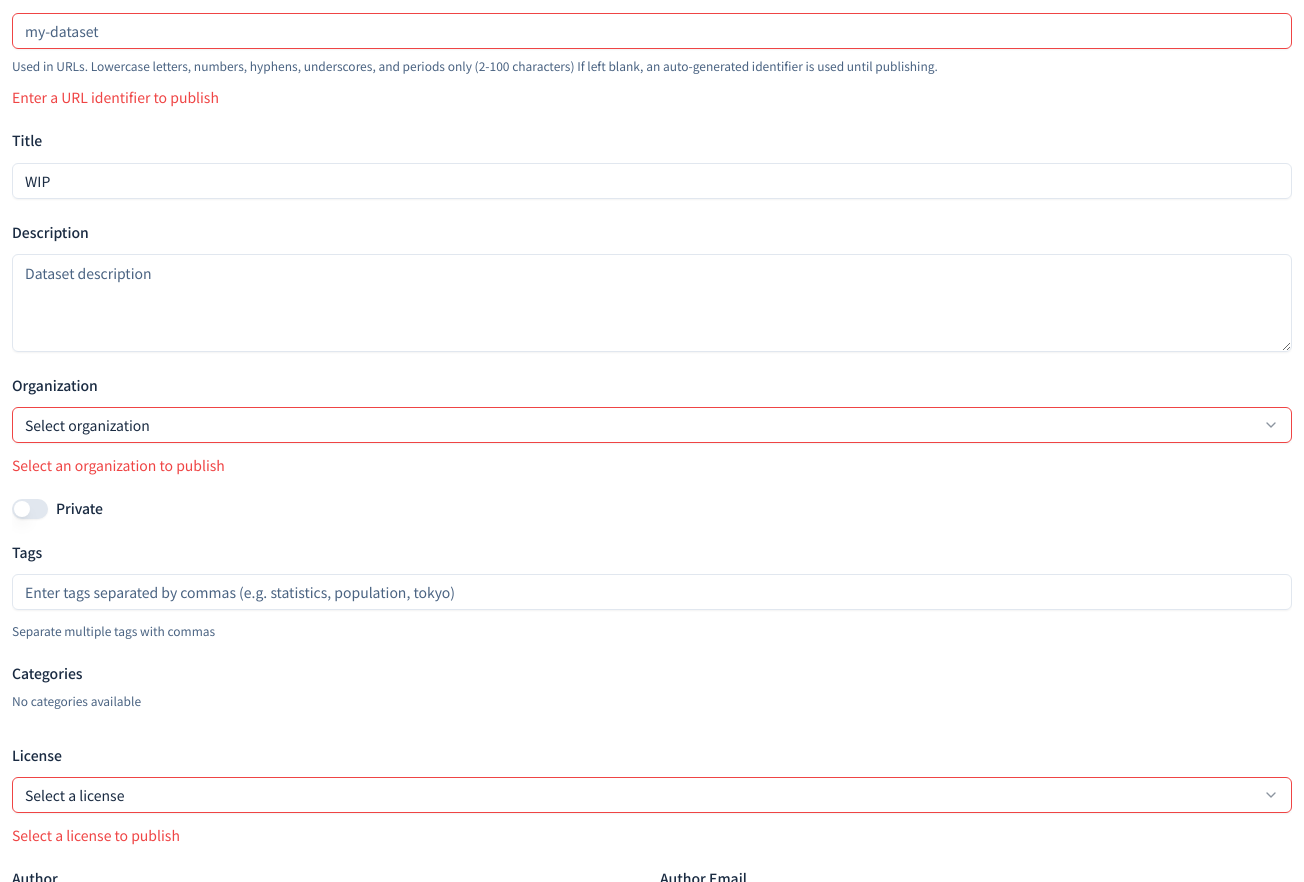
Test: DatasetForm (draft flows) › edit mode (draft) — dirty gating › should disable Save Draft on a pristine form and enable it after a change
Replace the text in the field labelled "Title" with "Changed" at point(652, 180), box [12, 162, 1292, 198]
(page scrolled)
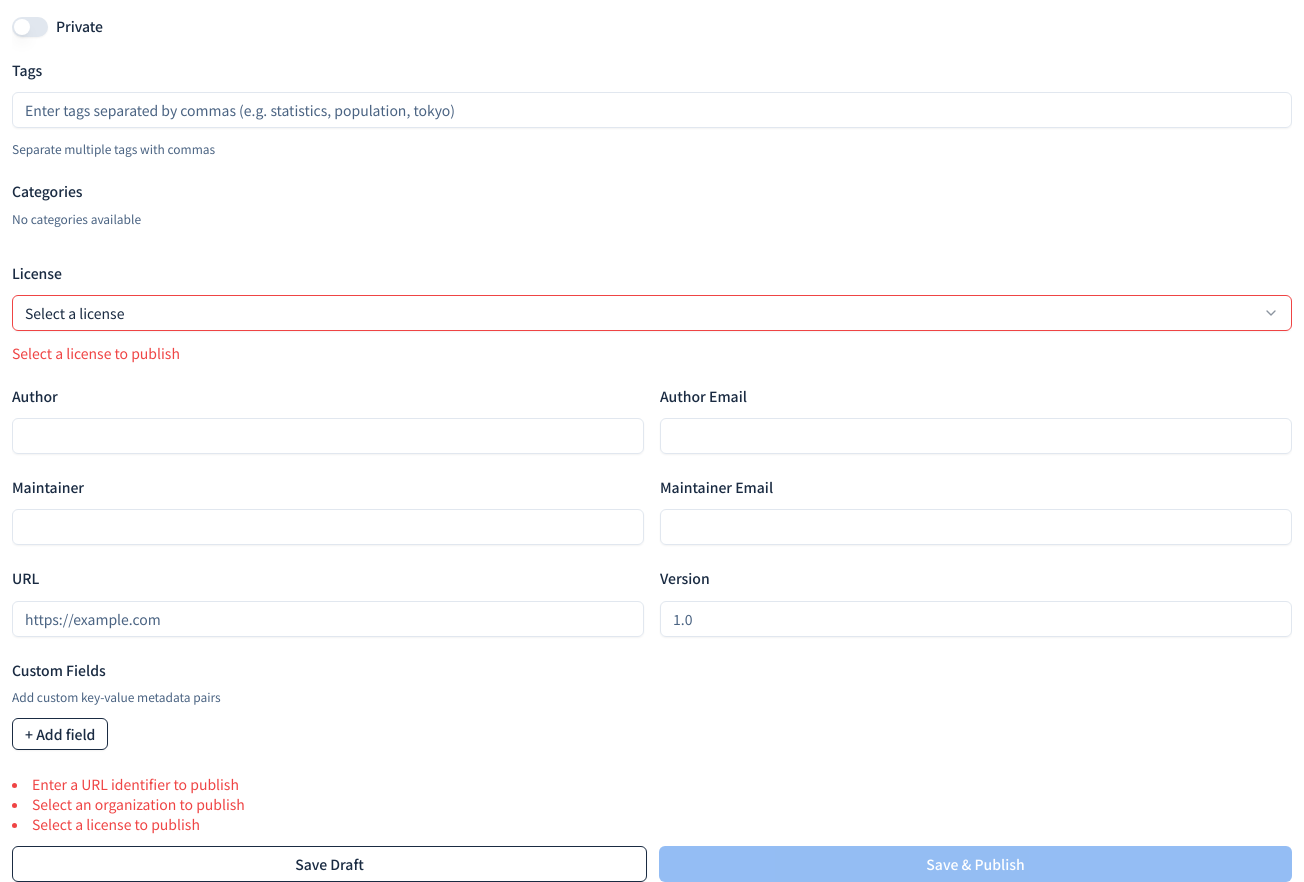
Expected: the button "Save Draft" is enabled, [12, 846, 647, 881]
